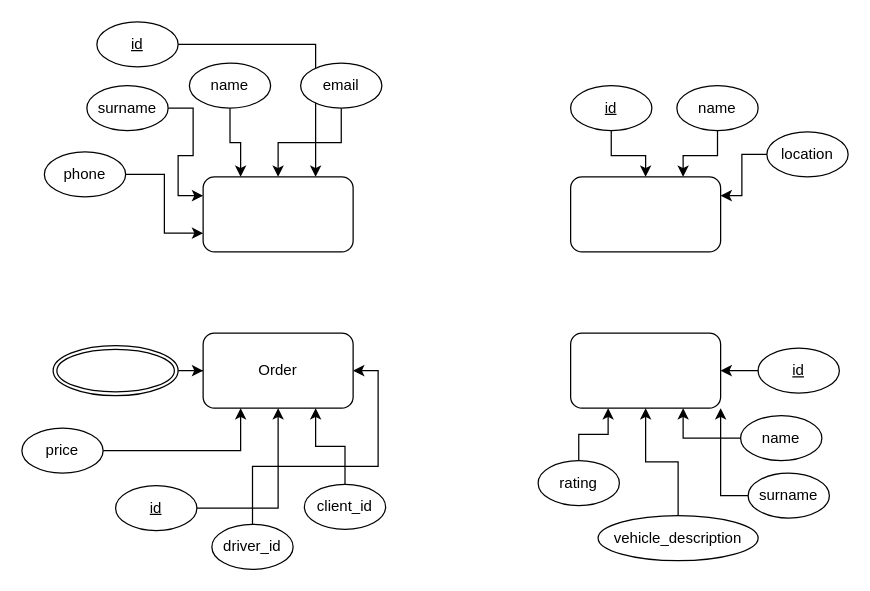
Some shapes in this 870 by 591 pixel diagram are drawn without their labels. Each missing label, with the centre of its shape:
"Client" goes at pixel 277 214.
"DeliveryDriver" goes at pixel 645 370.
"items" goes at pixel 115 370.
"Restaurant" goes at pixel 645 214.
